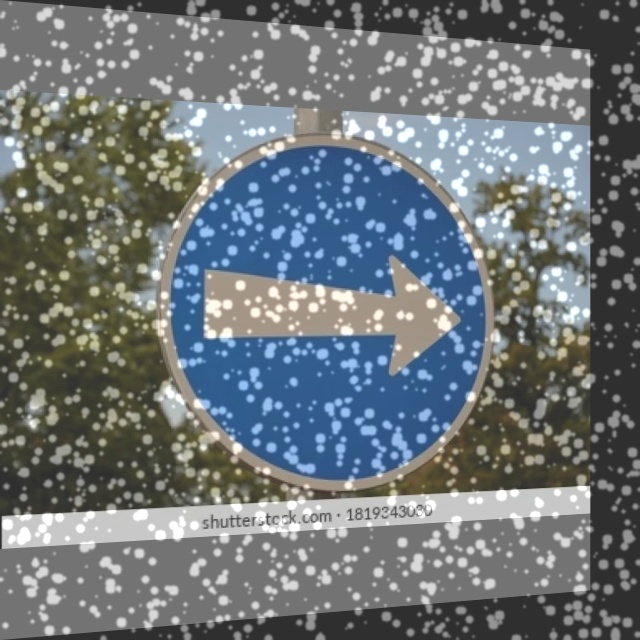Compulsory_Turn_Right: (165, 123, 485, 490)
